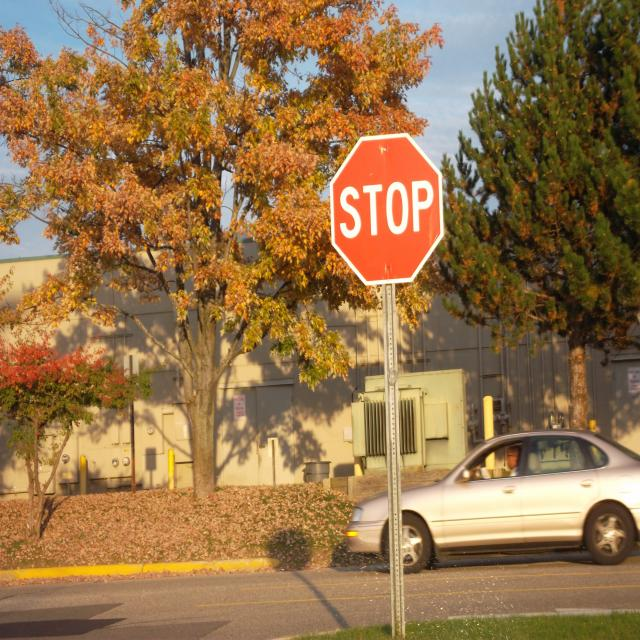stop: (330, 132, 446, 286)
